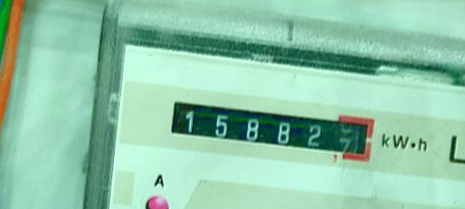1: (183, 109, 198, 136)
2: (306, 123, 325, 150)
5: (213, 113, 230, 141)
7: (336, 136, 353, 155)
8: (244, 117, 263, 144), (276, 121, 294, 147)
screen: (160, 90, 384, 173)
